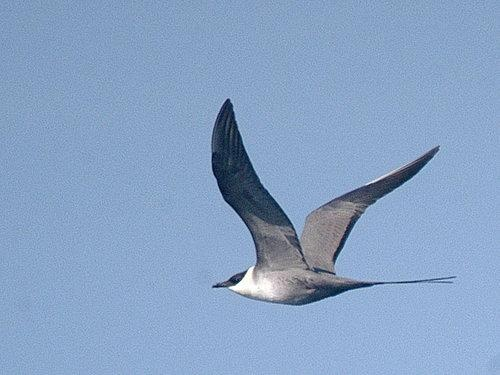bird: (202, 99, 441, 306)
